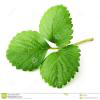Strawberry leaf: (3, 30, 49, 71), (40, 42, 81, 88), (38, 4, 74, 48)
